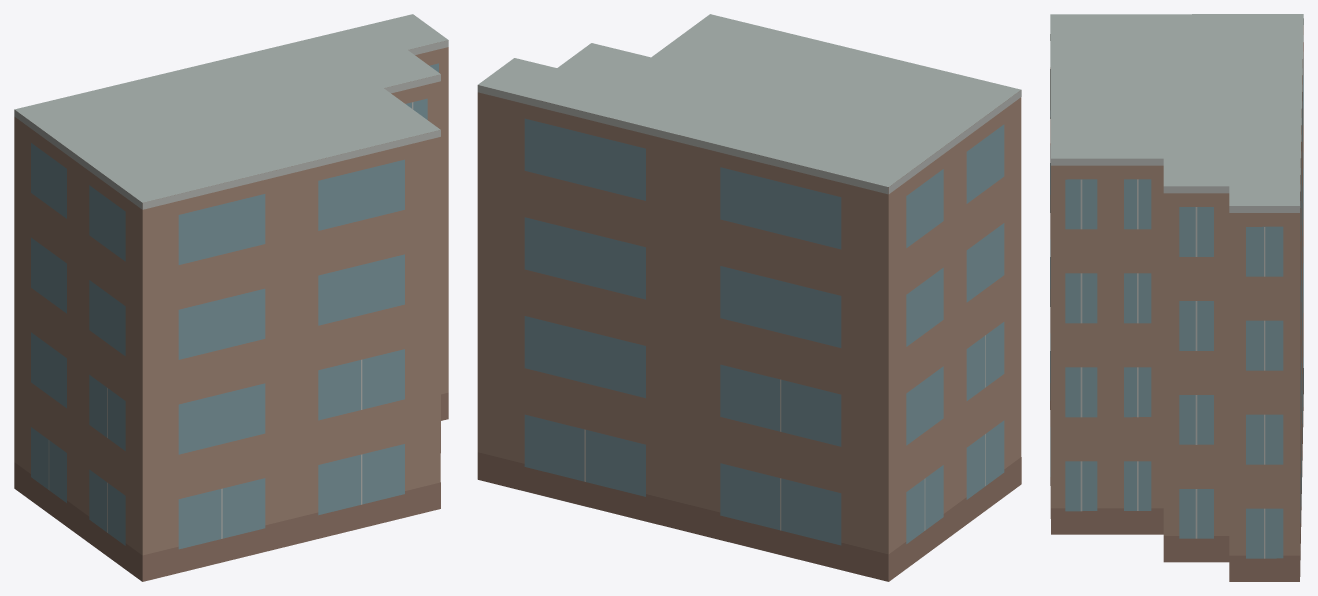
Rendered from survey-upis-32706652.glb.
3 views of the same model, side by side, from view 1: azimuth 30°, elevation 25°; view 2: azimuth 150°, elevation 25°; view 3: azimuth 270°, elevation 25° (orthographic). The views are drawn at different scales.
Parts seen in each view (by area): view 1: survey-upis-32706652.tmp; view 2: survey-upis-32706652.tmp; view 3: survey-upis-32706652.tmp.
Part boxes in pixels (x1,y1,x2,y2): survey-upis-32706652.tmp: (14, 14, 448, 581); survey-upis-32706652.tmp: (477, 14, 1021, 581); survey-upis-32706652.tmp: (1050, 14, 1303, 581).
Size of the model in its own units: 14.48 by 13.2 by 8.08.
